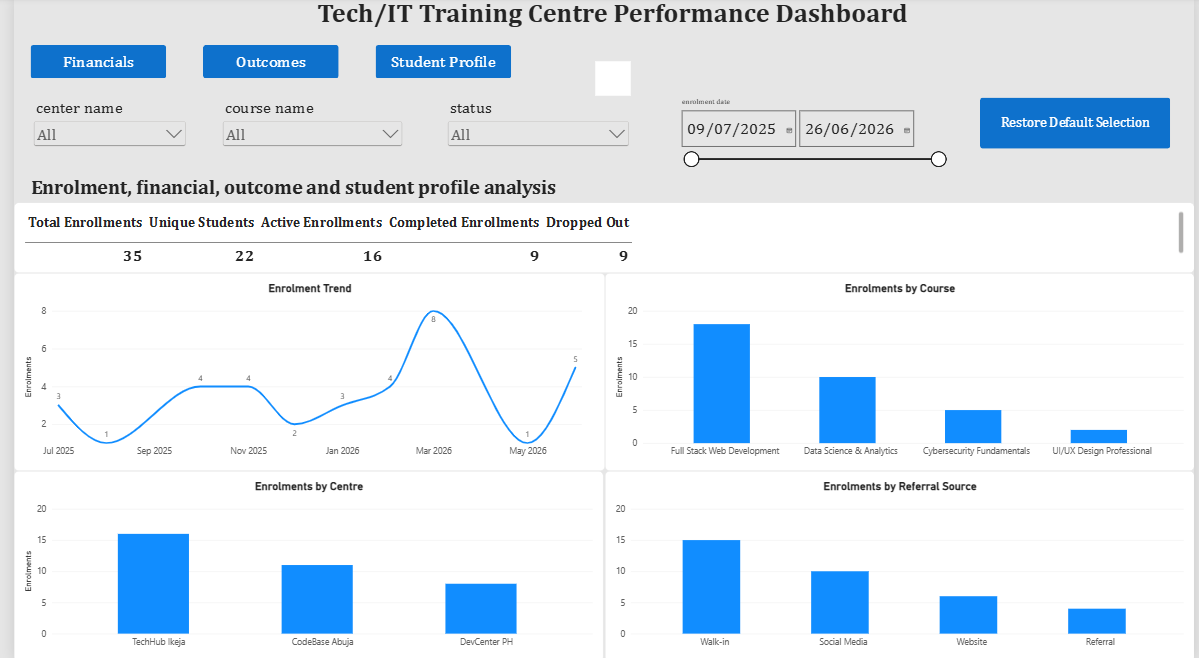

The page's visual inventory and layout, read from the dashboard file:
{"tool":"powerbi","page":{"name":"Overview","canvas":[1920,1080],"ordinal":0},"visuals":[{"type":"tableEx","fields":{"Values":["Table.Total Enrollments","Table.Unique Students","Table.Active Enrollments","Table.Completed Enrollments","Table.Dropped Out"]},"box":[0,334.3,1920.1,114.7],"z":0},{"type":"lineChart","title":"Enrolment Trend","fields":{"Y":["Count(Data.enrollment_id)"],"Category":["Data.enrollment_date.Variation.Date Hierarchy.Year","Data.enrollment_date.Variation.Date Hierarchy.Month"]},"box":[0,448.9,961.3,322.1],"z":1000},{"type":"clusteredColumnChart","title":"Enrolments by Course","fields":{"Category":["Data.course_name"],"Y":["Count(Data.enrollment_id)"]},"box":[961.3,448.9,958.8,322.1],"z":2000},{"type":"clusteredColumnChart","title":"Enrolments by Centre","fields":{"Category":["Data.center_name"],"Y":["Count(Data.enrollment_id)"]},"box":[0,771,958.8,309.9],"z":3000},{"type":"clusteredColumnChart","title":"Enrolments by Referral Source","fields":{"Category":["Data.referral_source"],"Y":["Count(Data.enrollment_id)"]},"box":[961.3,771,958.8,309.9],"z":4000},{"type":"slicer","fields":{"Values":["Data.center_name"]},"box":[26.8,163.5,257.9,103.1],"z":5000},{"type":"textbox","box":[26.8,290.3,1893.3,43.9],"z":6000},{"type":"textbox","box":[26.8,0,1893.3,78.1],"z":7000},{"type":"slicer","fields":{"Values":["Data.course_name"]},"box":[334.3,163.5,302.5,102.5],"z":8000},{"type":"slicer","fields":{"Values":["Data.status"]},"box":[700.2,163.5,305,102.5],"z":9000},{"type":"slicer","fields":{"Values":["Data.enrollment_date"]},"box":[1078.4,163.5,441.6,126.9],"z":10000},{"type":"actionButton","title":"reset button","box":[1571.2,163.5,309.4,83.3],"z":11000},{"type":"actionButton","box":[27.1,77.5,220.9,54.3],"z":12000},{"type":"actionButton","box":[307.4,78.1,220.9,54.3],"z":13000},{"type":"actionButton","box":[588,78.1,220.9,54.3],"z":14000}]}

Visuals, with their boxes in screenshot pixels (x1, y1, x2, y2), scaled from the page's 1920x1080 canvas onto the 1199x658 screenshot:
tableEx - Table.Total Enrollments x Table.Unique Students: Rect(0, 204, 1198, 274)
"Enrolment Trend" lineChart: Rect(0, 273, 600, 470)
"Enrolments by Course" clusteredColumnChart: Rect(600, 273, 1198, 470)
"Enrolments by Centre" clusteredColumnChart: Rect(0, 470, 599, 657)
"Enrolments by Referral Source" clusteredColumnChart: Rect(600, 470, 1198, 657)
slicer - Data.center_name: Rect(17, 100, 178, 162)
textbox: Rect(17, 177, 1198, 204)
textbox: Rect(17, 0, 1198, 48)
slicer - Data.course_name: Rect(209, 100, 398, 162)
slicer - Data.status: Rect(437, 100, 628, 162)
slicer - Data.enrollment_date: Rect(673, 100, 949, 177)
"reset button" actionButton: Rect(981, 100, 1174, 150)
actionButton: Rect(17, 47, 155, 80)
actionButton: Rect(192, 48, 330, 81)
actionButton: Rect(367, 48, 505, 81)
